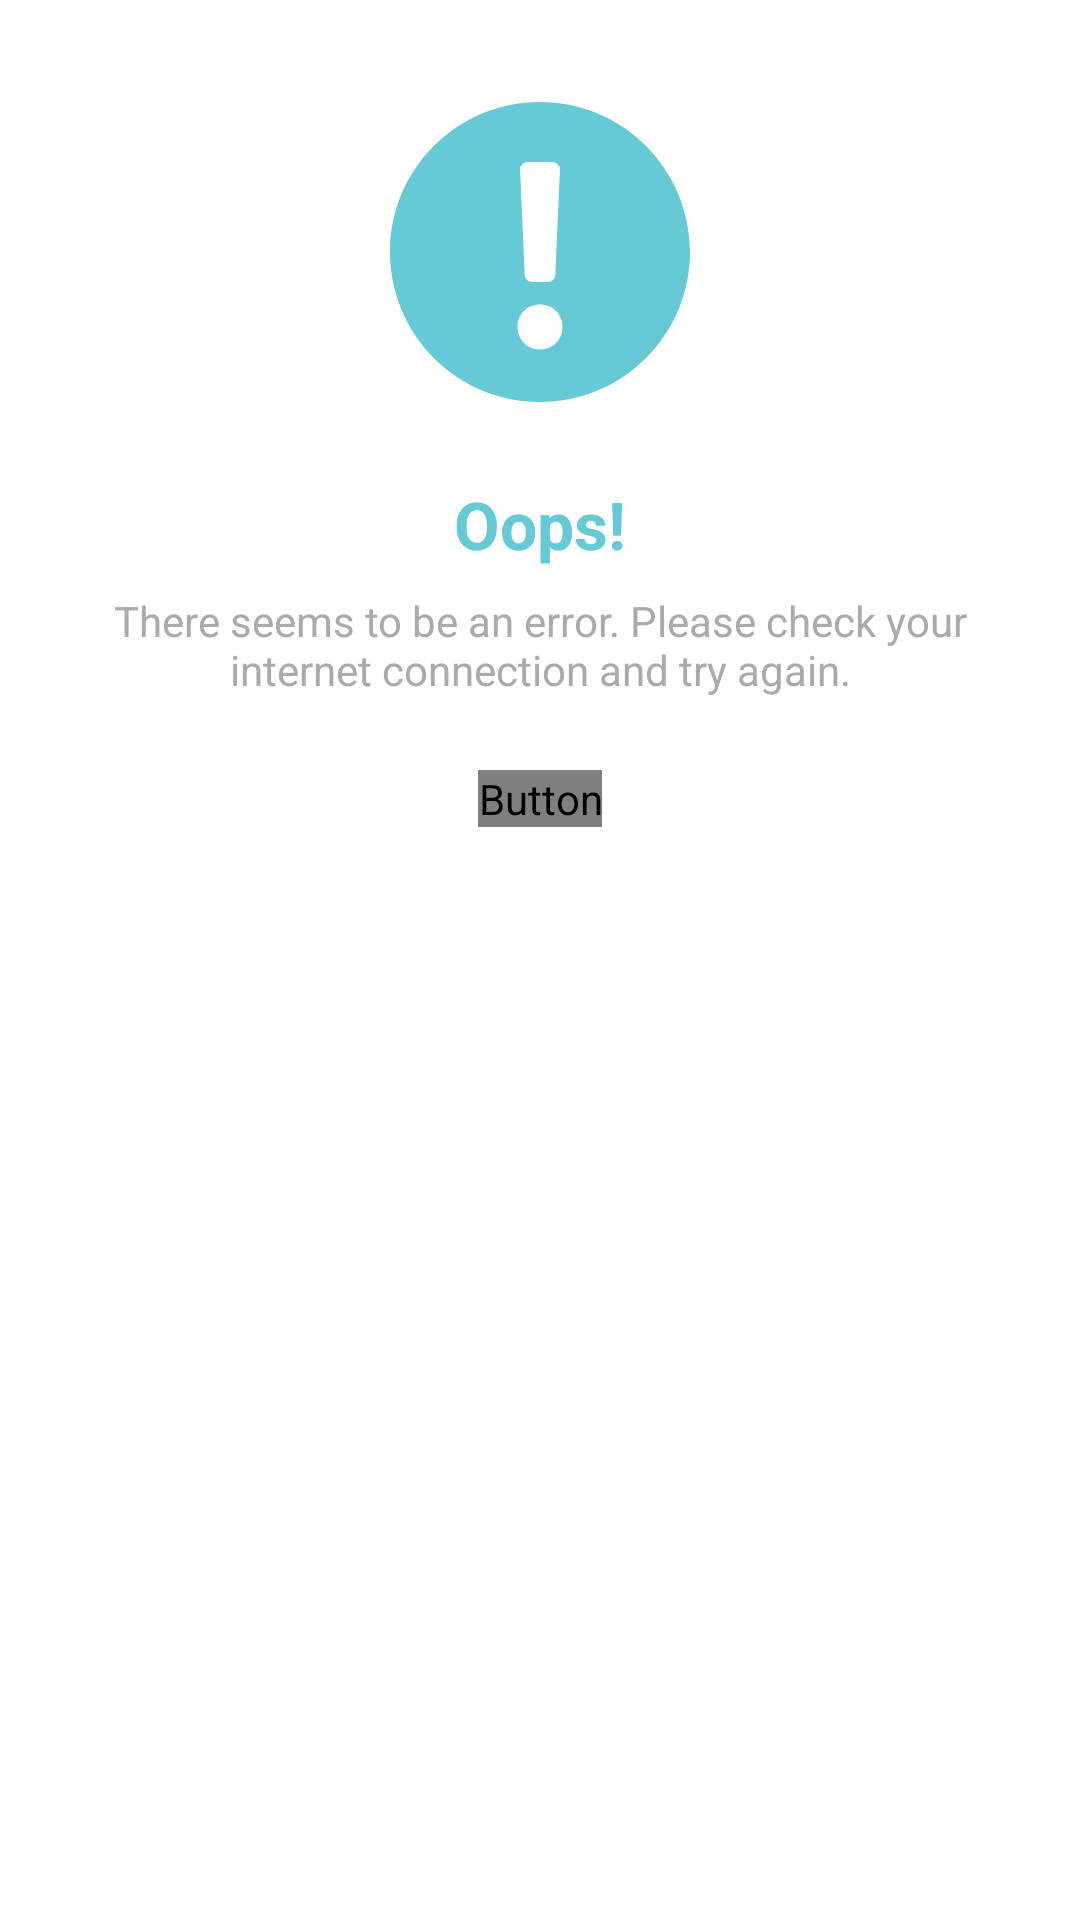

Icons on this 1080*1920 Android screen, each with its box as box(x1, y1, x2, y2):
Error Illustration: box(390, 102, 690, 402)
